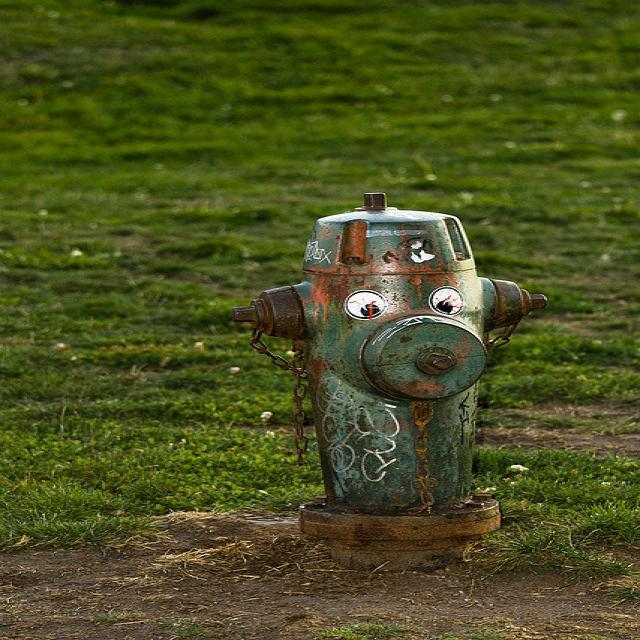fire_hydrant: (230, 190, 554, 575)
